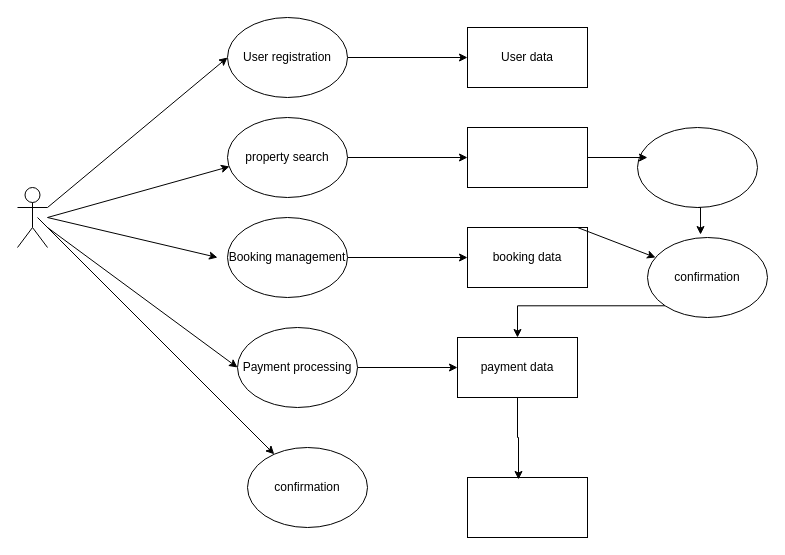
Some shapes in this 785 by 555 pixel diagram are drawn without their labels. Here are the shapes that lost their labels. From the top down, the centre of each, then its label:
pixel 527 157: propertry data
pixel 697 167: search results
pixel 32 217: user
pixel 527 507: Payment
